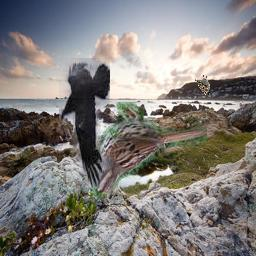Crow: (60, 58, 111, 188)
Sparrow: (91, 103, 208, 200), (196, 75, 211, 96)
